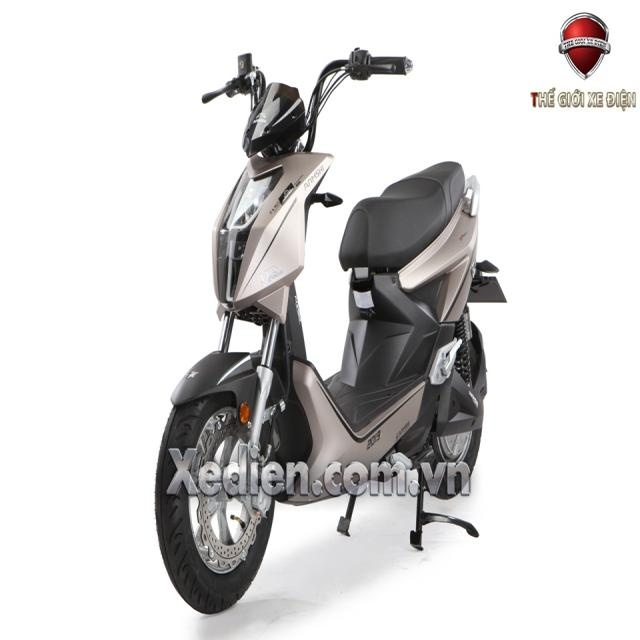Motorcycle: (139, 43, 507, 619)
